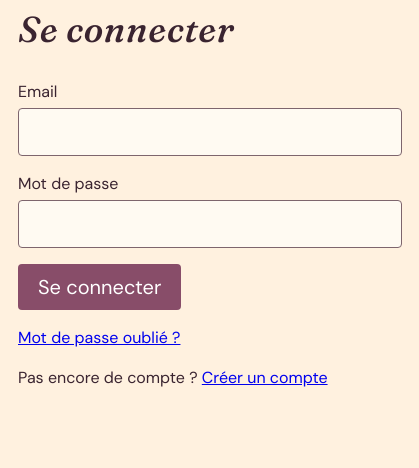
Test: LoginPage › valide la saisie avant envoi et ne déclenche pas de requête
This screenshot has width=419, height=468.
Click the button "Se connecter" at (100, 287), box [18,264,181,310]
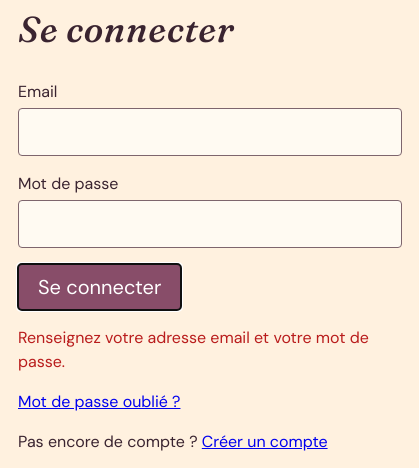
Check: the message "Renseignez votre adresse email et votre mot de passe." is shown, box [18,326,402,374]
